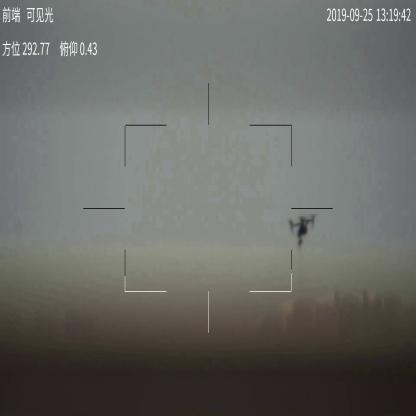uav: (288, 213, 316, 247)
